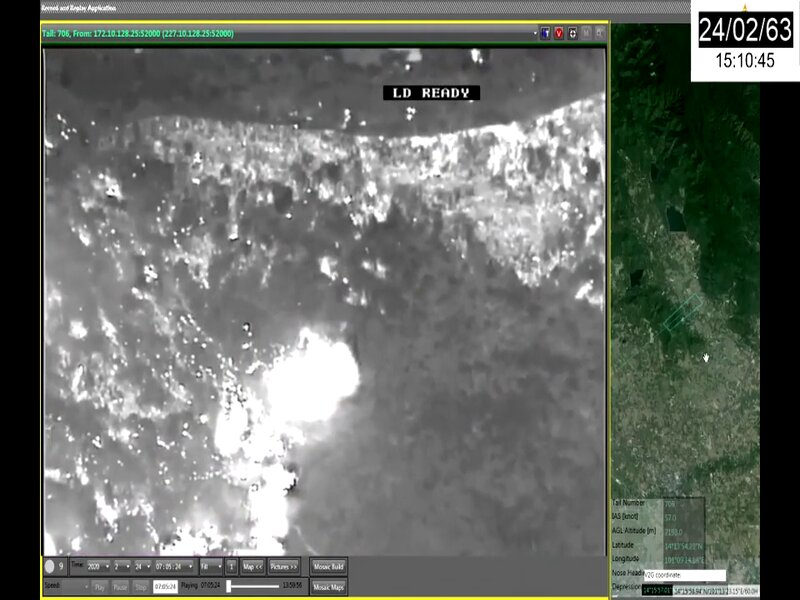Fire: (161, 326, 360, 557)
